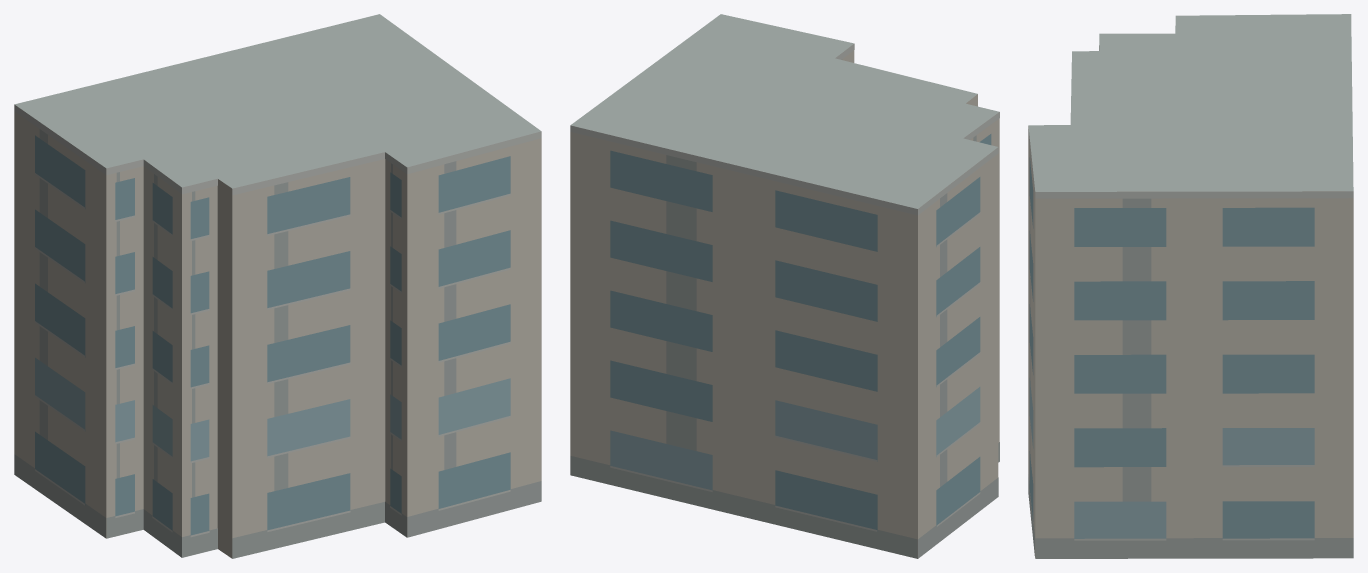
File: survey-upis-32881464.glb
3 views of the same model, side by side, from view 1: azimuth 30°, elevation 25°; view 2: azimuth 150°, elevation 25°; view 3: azimuth 270°, elevation 25° (orthographic). The views are drawn at different scales.
Parts seen in each view (by area): view 1: survey-upis-32881464.tmp; view 2: survey-upis-32881464.tmp; view 3: survey-upis-32881464.tmp.
Boxes of the visible parts, x1,y1,x2,y2 form: survey-upis-32881464.tmp: (14,14,541,558); survey-upis-32881464.tmp: (570,14,999,558); survey-upis-32881464.tmp: (1028,14,1353,558).
Size of the model in its own units: 13.74 by 13.2 by 10.61.
